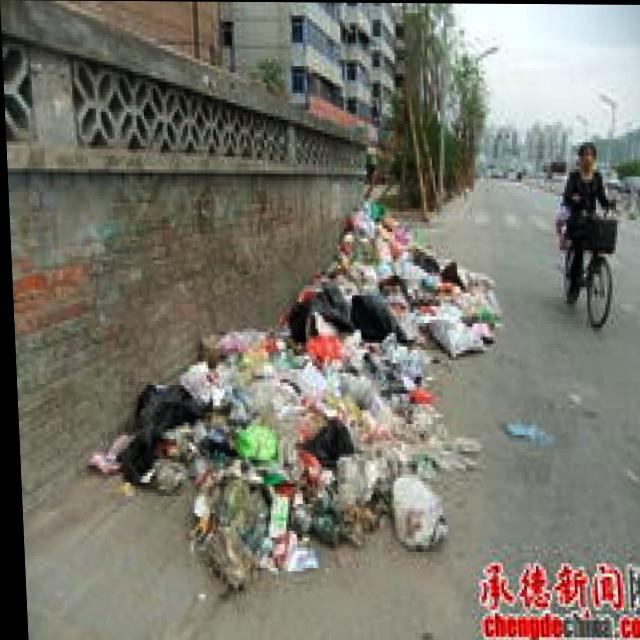garbage: (72, 189, 504, 593)
